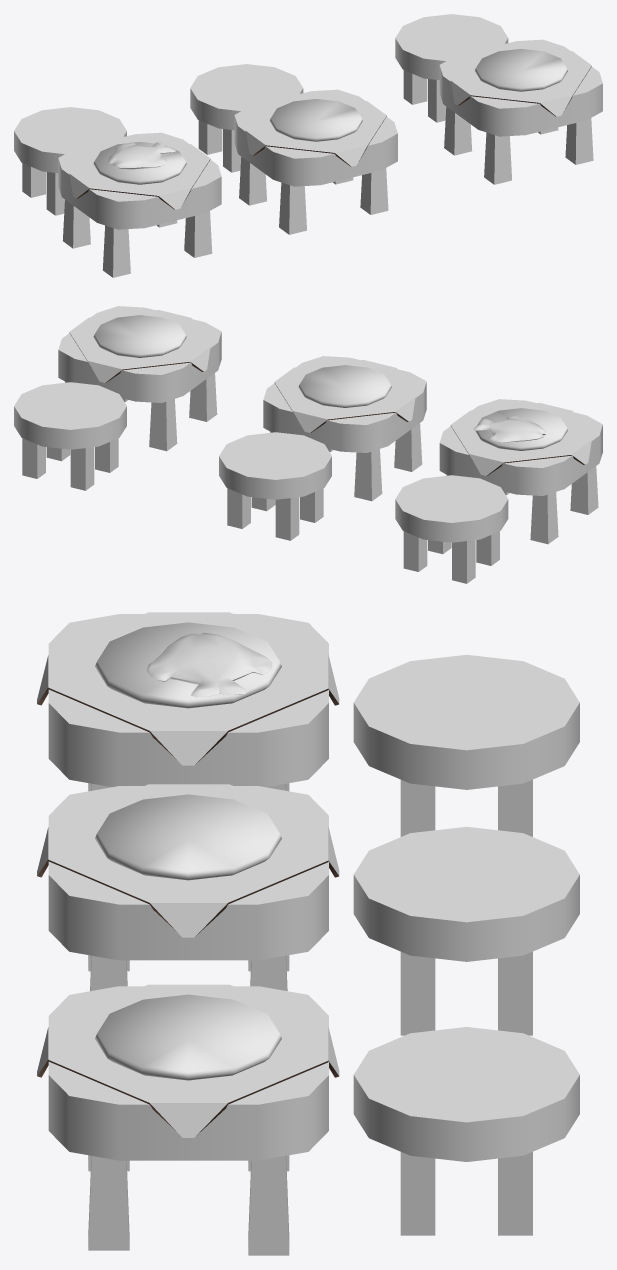
File: Fishshop.fbx
3 views of the same model, one above another, from view 1: azimuth 30°, elevation 25°; view 2: azimuth 150°, elevation 25°; view 3: azimuth 270°, elevation 25° (orthographic). The views are drawn at different scales.
Parts seen in each view (by area): view 1: Table.001, Table.002, Table, Fish; view 2: Table.001, Table.002, Table, Fish; view 3: Table.002, Table.001, Table, Fish.
Boxes of the visible parts, x1,y1,x2,y2 form: Table.001: (190,64,397,234); Table.002: (395,14,602,184); Table: (14,107,221,277); Fish: (108,142,175,169); Table.001: (219,356,426,540); Table.002: (14,306,221,490); Table: (395,399,602,583); Fish: (473,416,546,442); Table.002: (37,984,579,1255); Table.001: (37,784,579,1035); Table: (37,612,579,836); Fish: (146,632,272,697).
Bounding box in the file's own units: 352 × 59.98 × 161.
3 materials, 2 textured.
